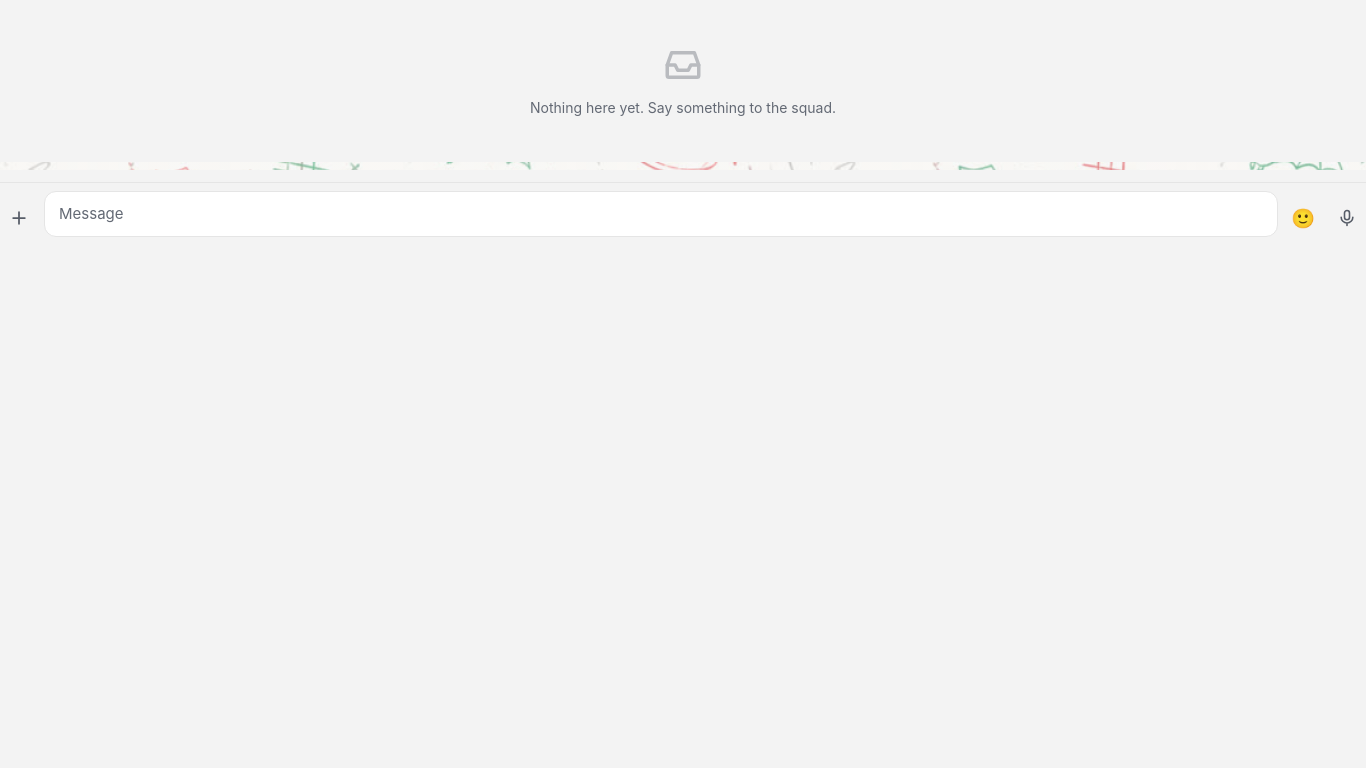
Test: channel composer bar › poll is behind +, not on the bar, and opens the existing sheet
Click the button with test id "attach-menu" at (19, 218), box x1=0 y1=199 x2=38 y2=237
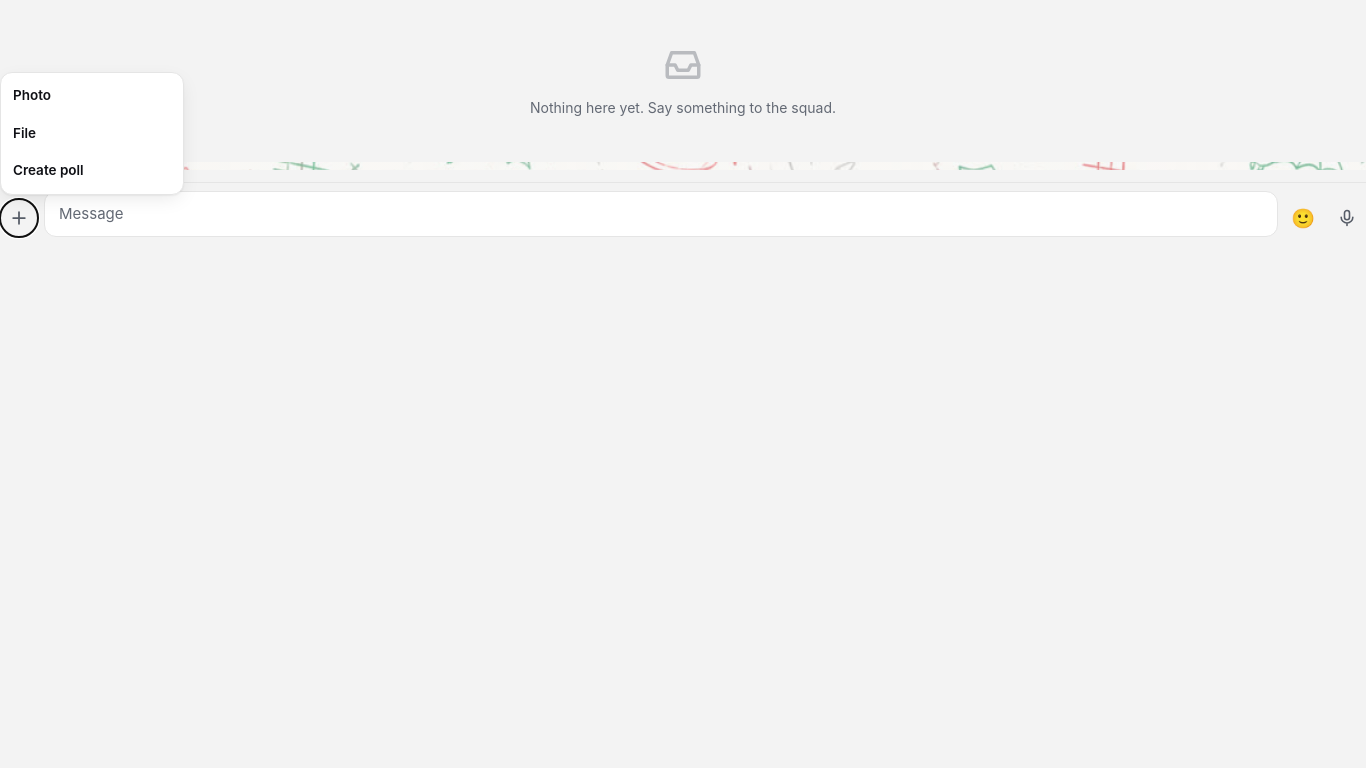
Click the menu item with test id "attach-menu-poll" at (92, 171), box x1=1 y1=152 x2=183 y2=190
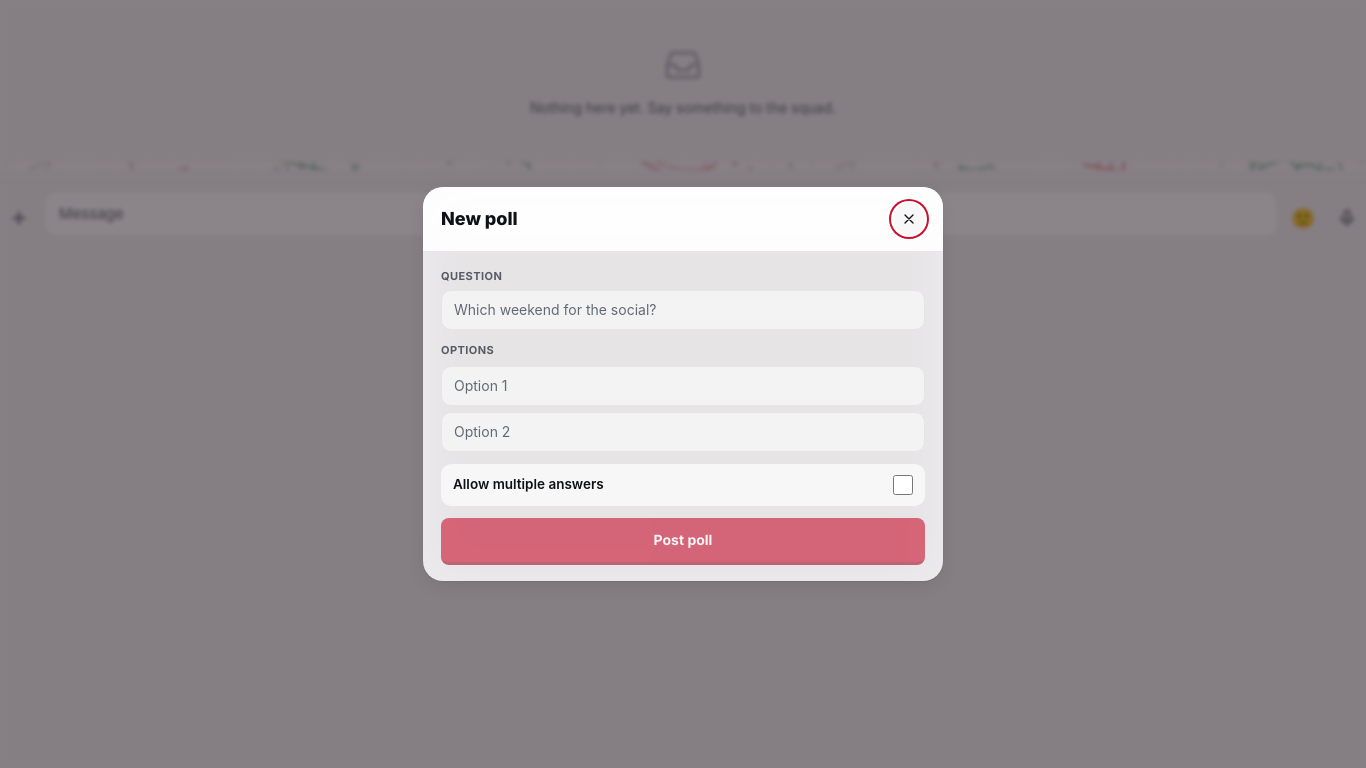
Expected: the element with test id "poll-composer" is shown, x1=441 y1=268 x2=925 y2=565
